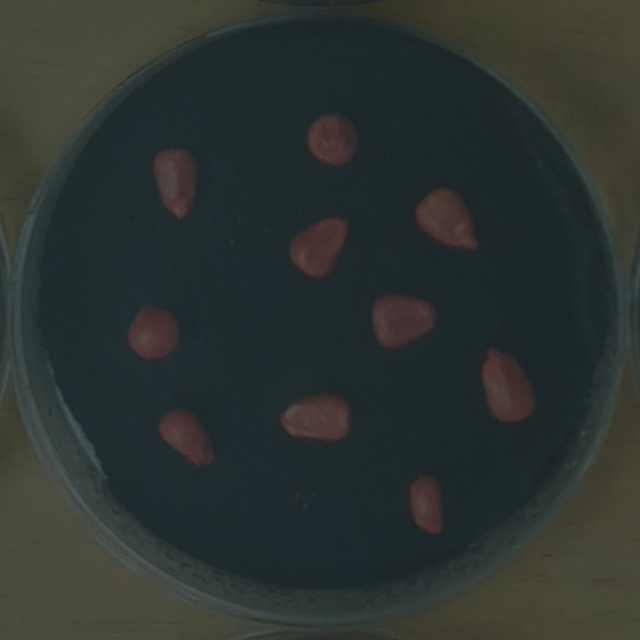Zea mays: (472, 337, 543, 430), (406, 179, 485, 259), (363, 284, 448, 357), (281, 205, 358, 284), (271, 384, 359, 449), (150, 399, 223, 473), (120, 295, 189, 369), (145, 139, 203, 226), (299, 106, 365, 171), (400, 466, 452, 539)
